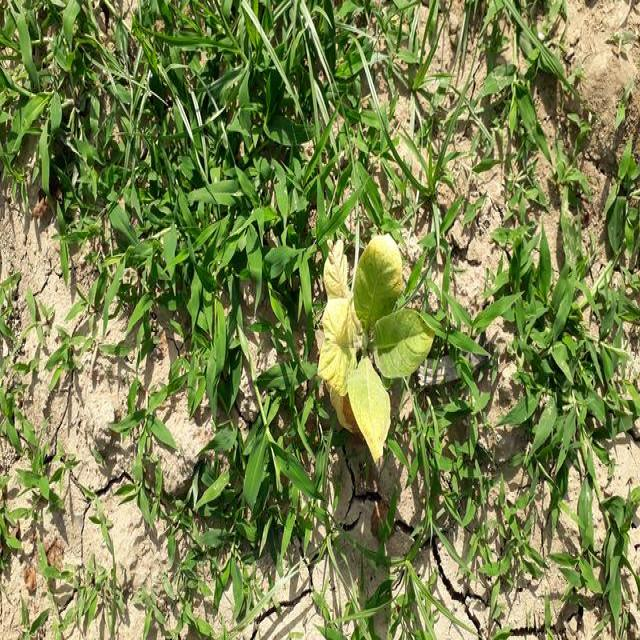crop: (320, 228, 434, 474)
